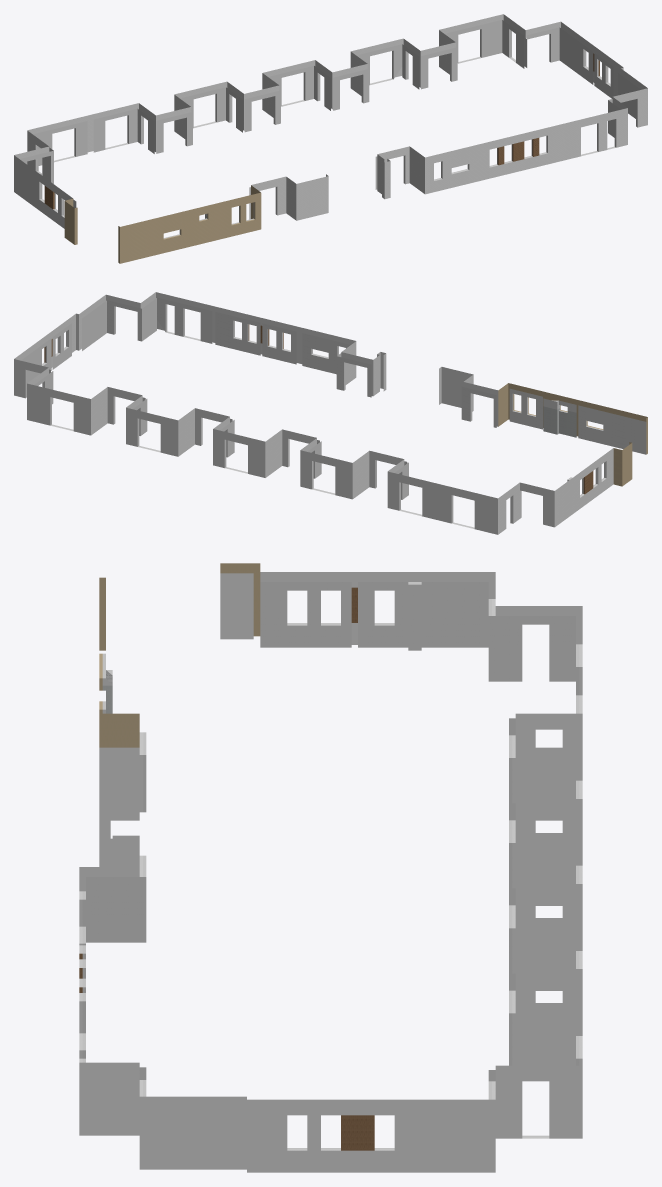
The model's file is Obvodovy_plast_4NP.obj.
The picture shows the model from 3 angles, top to bottom: view 1: azimuth 30°, elevation 25°; view 2: azimuth 150°, elevation 25°; view 3: azimuth 270°, elevation 25°; orthographic projection. The views are drawn at different scales.
Parts seen in each view (by area): view 1: Obvodovy_plast_4NP; view 2: Obvodovy_plast_4NP; view 3: Obvodovy_plast_4NP.
Boxes of the visible parts, x1,y1,x2,y2 form: Obvodovy_plast_4NP: (14, 14, 647, 263); Obvodovy_plast_4NP: (14, 292, 647, 534); Obvodovy_plast_4NP: (79, 563, 582, 1172).
Size of the model in its own units: 3.48 by 0.2211 by 1.38.
